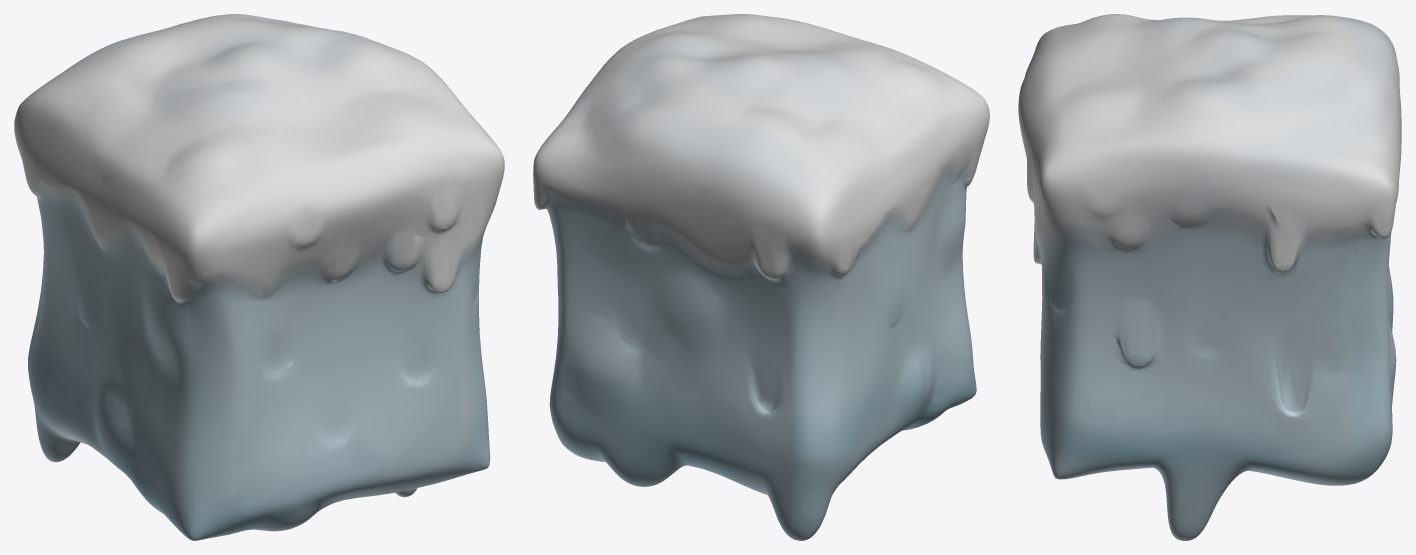
File: IceCube.fbx
The picture shows the model from 3 angles, left to right: view 1: azimuth 30°, elevation 25°; view 2: azimuth 150°, elevation 25°; view 3: azimuth 270°, elevation 25°; orthographic projection. The views are drawn at different scales.
Visible parts, largest first — view 1: Object_3; view 2: Object_3; view 3: Object_3.
Boxes of the visible parts, left/top/right/bottom form: Object_3: left=14, top=14, right=504, bottom=540; Object_3: left=533, top=14, right=989, bottom=540; Object_3: left=1018, top=14, right=1401, bottom=540.
Bounding box in the file's own units: 708 × 932 × 731.
